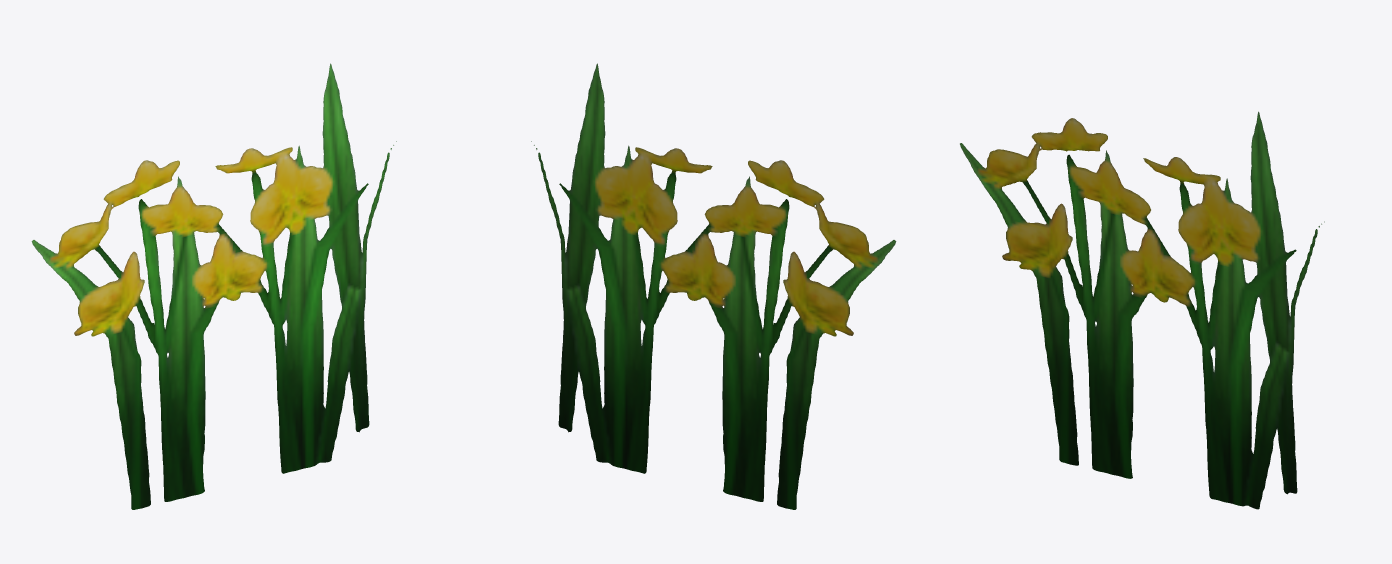
3 views of the same model, side by side, from view 1: azimuth 30°, elevation 25°; view 2: azimuth 150°, elevation 25°; view 3: azimuth 330°, elevation 25° (orthographic).
Visible parts, largest first — view 1: 草丛004; view 2: 草丛004; view 3: 草丛004.
Part boxes in pixels (bbox=[...]): 草丛004: bbox=[31, 63, 396, 509]; 草丛004: bbox=[531, 63, 896, 509]; 草丛004: bbox=[960, 111, 1324, 509].
Size of the model in its own units: 82.89 by 78.14 by 1.2e-05.
Materials: 1 (1 with a texture image).
